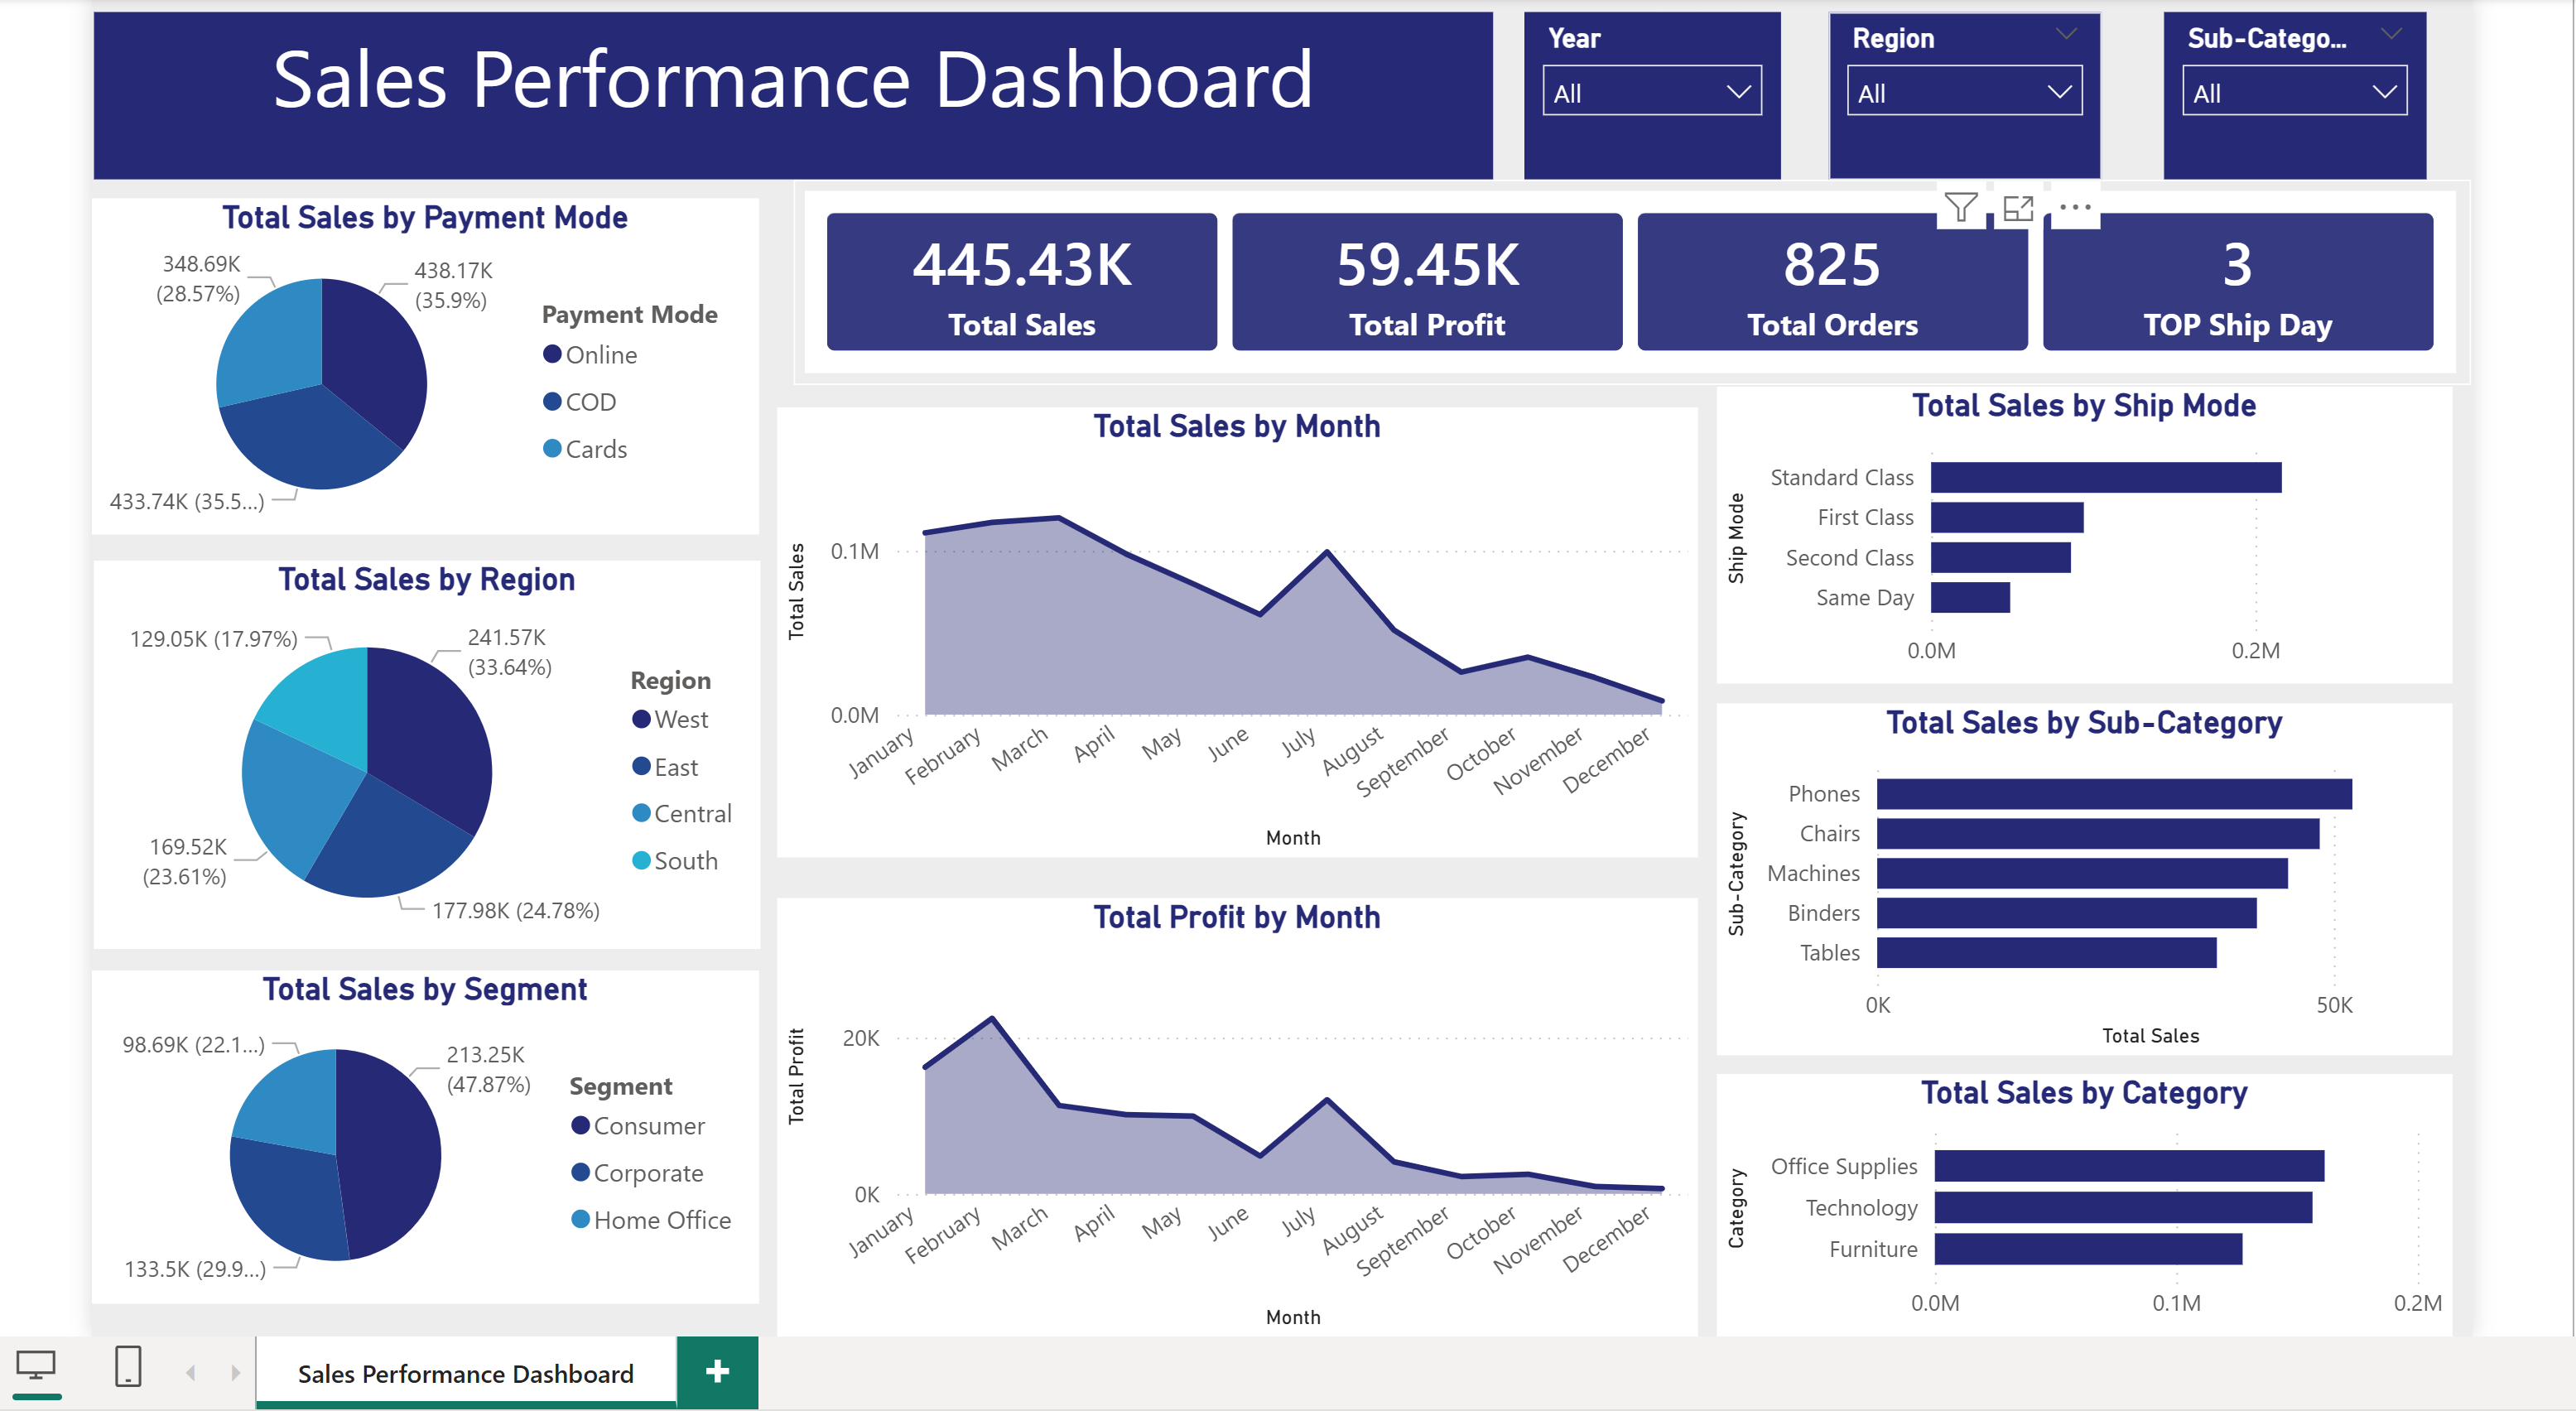

This screenshot's page, from the dashboard's own definition file:
{"tool":"powerbi","page":{"name":"Sales Performance Dashboard","canvas":[1280,720],"ordinal":0},"visuals":[{"type":"textbox","box":[1.2,0,751.9,98.3],"z":0},{"type":"cardVisual","fields":{"Data":["Products.Total Sales","Products.Total Profit","Orders.Total Orders","Orders.TOP Ship Day"]},"box":[377.2,98.3,901.8,110.6],"z":1000},{"type":"pieChart","fields":{"Y":["Products.Total Sales"],"Category":["SuperStore_Sales_Dataset.Payment Mode"]},"box":[0,108.1,358.8,180.6],"z":2000},{"type":"pieChart","fields":{"Y":["Products.Total Sales"],"Category":["Customers.Region"]},"box":[1.2,302.8,358.3,208.7],"z":3000},{"type":"pieChart","fields":{"Y":["Products.Total Sales"],"Category":["Products.Segment"]},"box":[0,523.4,358.8,179.4],"z":4000},{"type":"areaChart","fields":{"Y":["Products.Total Sales"],"Category":["Date.Date.Variation.Date Hierarchy.Month"]},"box":[368.6,219.9,495.1,242],"z":5000},{"type":"areaChart","fields":{"Y":["Products.Total Profit"],"Category":["Date.Date.Variation.Date Hierarchy.Month"]},"box":[368.6,484.1,495.1,235.9],"z":6000},{"type":"barChart","fields":{"Y":["Products.Total Sales"],"Category":["Products.Sub-Category"]},"box":[873.6,379.7,395.6,189.2],"z":7000},{"type":"barChart","fields":{"Category":["Products.Category"],"Y":["Products.Total Sales"]},"box":[873.6,578.7,395.6,141.3],"z":8000},{"type":"clusteredBarChart","fields":{"Category":["Products.Ship Mode"],"Y":["Products.Total Sales"]},"box":[873.6,208.9,395.6,159.7],"z":9000},{"type":"slicer","fields":{"Values":["Date.Date.Variation.Date Hierarchy.Year"]},"box":[770.4,0,137.6,98.3],"z":10000},{"type":"slicer","fields":{"Values":["Customers.Region"]},"box":[933.8,0,147.4,98.3],"z":11000},{"type":"slicer","fields":{"Values":["Products.Sub-Category"]},"box":[1114.4,0,141.3,98.3],"z":12000}]}

Visuals, with their boxes on the page's 1280x720 design canvas (x1, y1, x2, y2). These are canvas units, not pixel positions in the 2576x1411 screenshot, which may show the page scaled, cropped or inside an application window:
textbox: 1, 0, 753, 98
cardVisual - Products.Total Sales x Products.Total Profit: 377, 98, 1279, 209
pieChart - Products.Total Sales x SuperStore_Sales_Dataset.Payment Mode: 0, 108, 359, 289
pieChart - Products.Total Sales x Customers.Region: 1, 303, 360, 512
pieChart - Products.Total Sales x Products.Segment: 0, 523, 359, 703
areaChart - Products.Total Sales x Date.Date.Variation.Date Hierarchy.Month: 369, 220, 864, 462
areaChart - Products.Total Profit x Date.Date.Variation.Date Hierarchy.Month: 369, 484, 864, 720
barChart - Products.Total Sales x Products.Sub-Category: 874, 380, 1269, 569
barChart - Products.Category x Products.Total Sales: 874, 579, 1269, 720
clusteredBarChart - Products.Ship Mode x Products.Total Sales: 874, 209, 1269, 369
slicer - Date.Date.Variation.Date Hierarchy.Year: 770, 0, 908, 98
slicer - Customers.Region: 934, 0, 1081, 98
slicer - Products.Sub-Category: 1114, 0, 1256, 98
